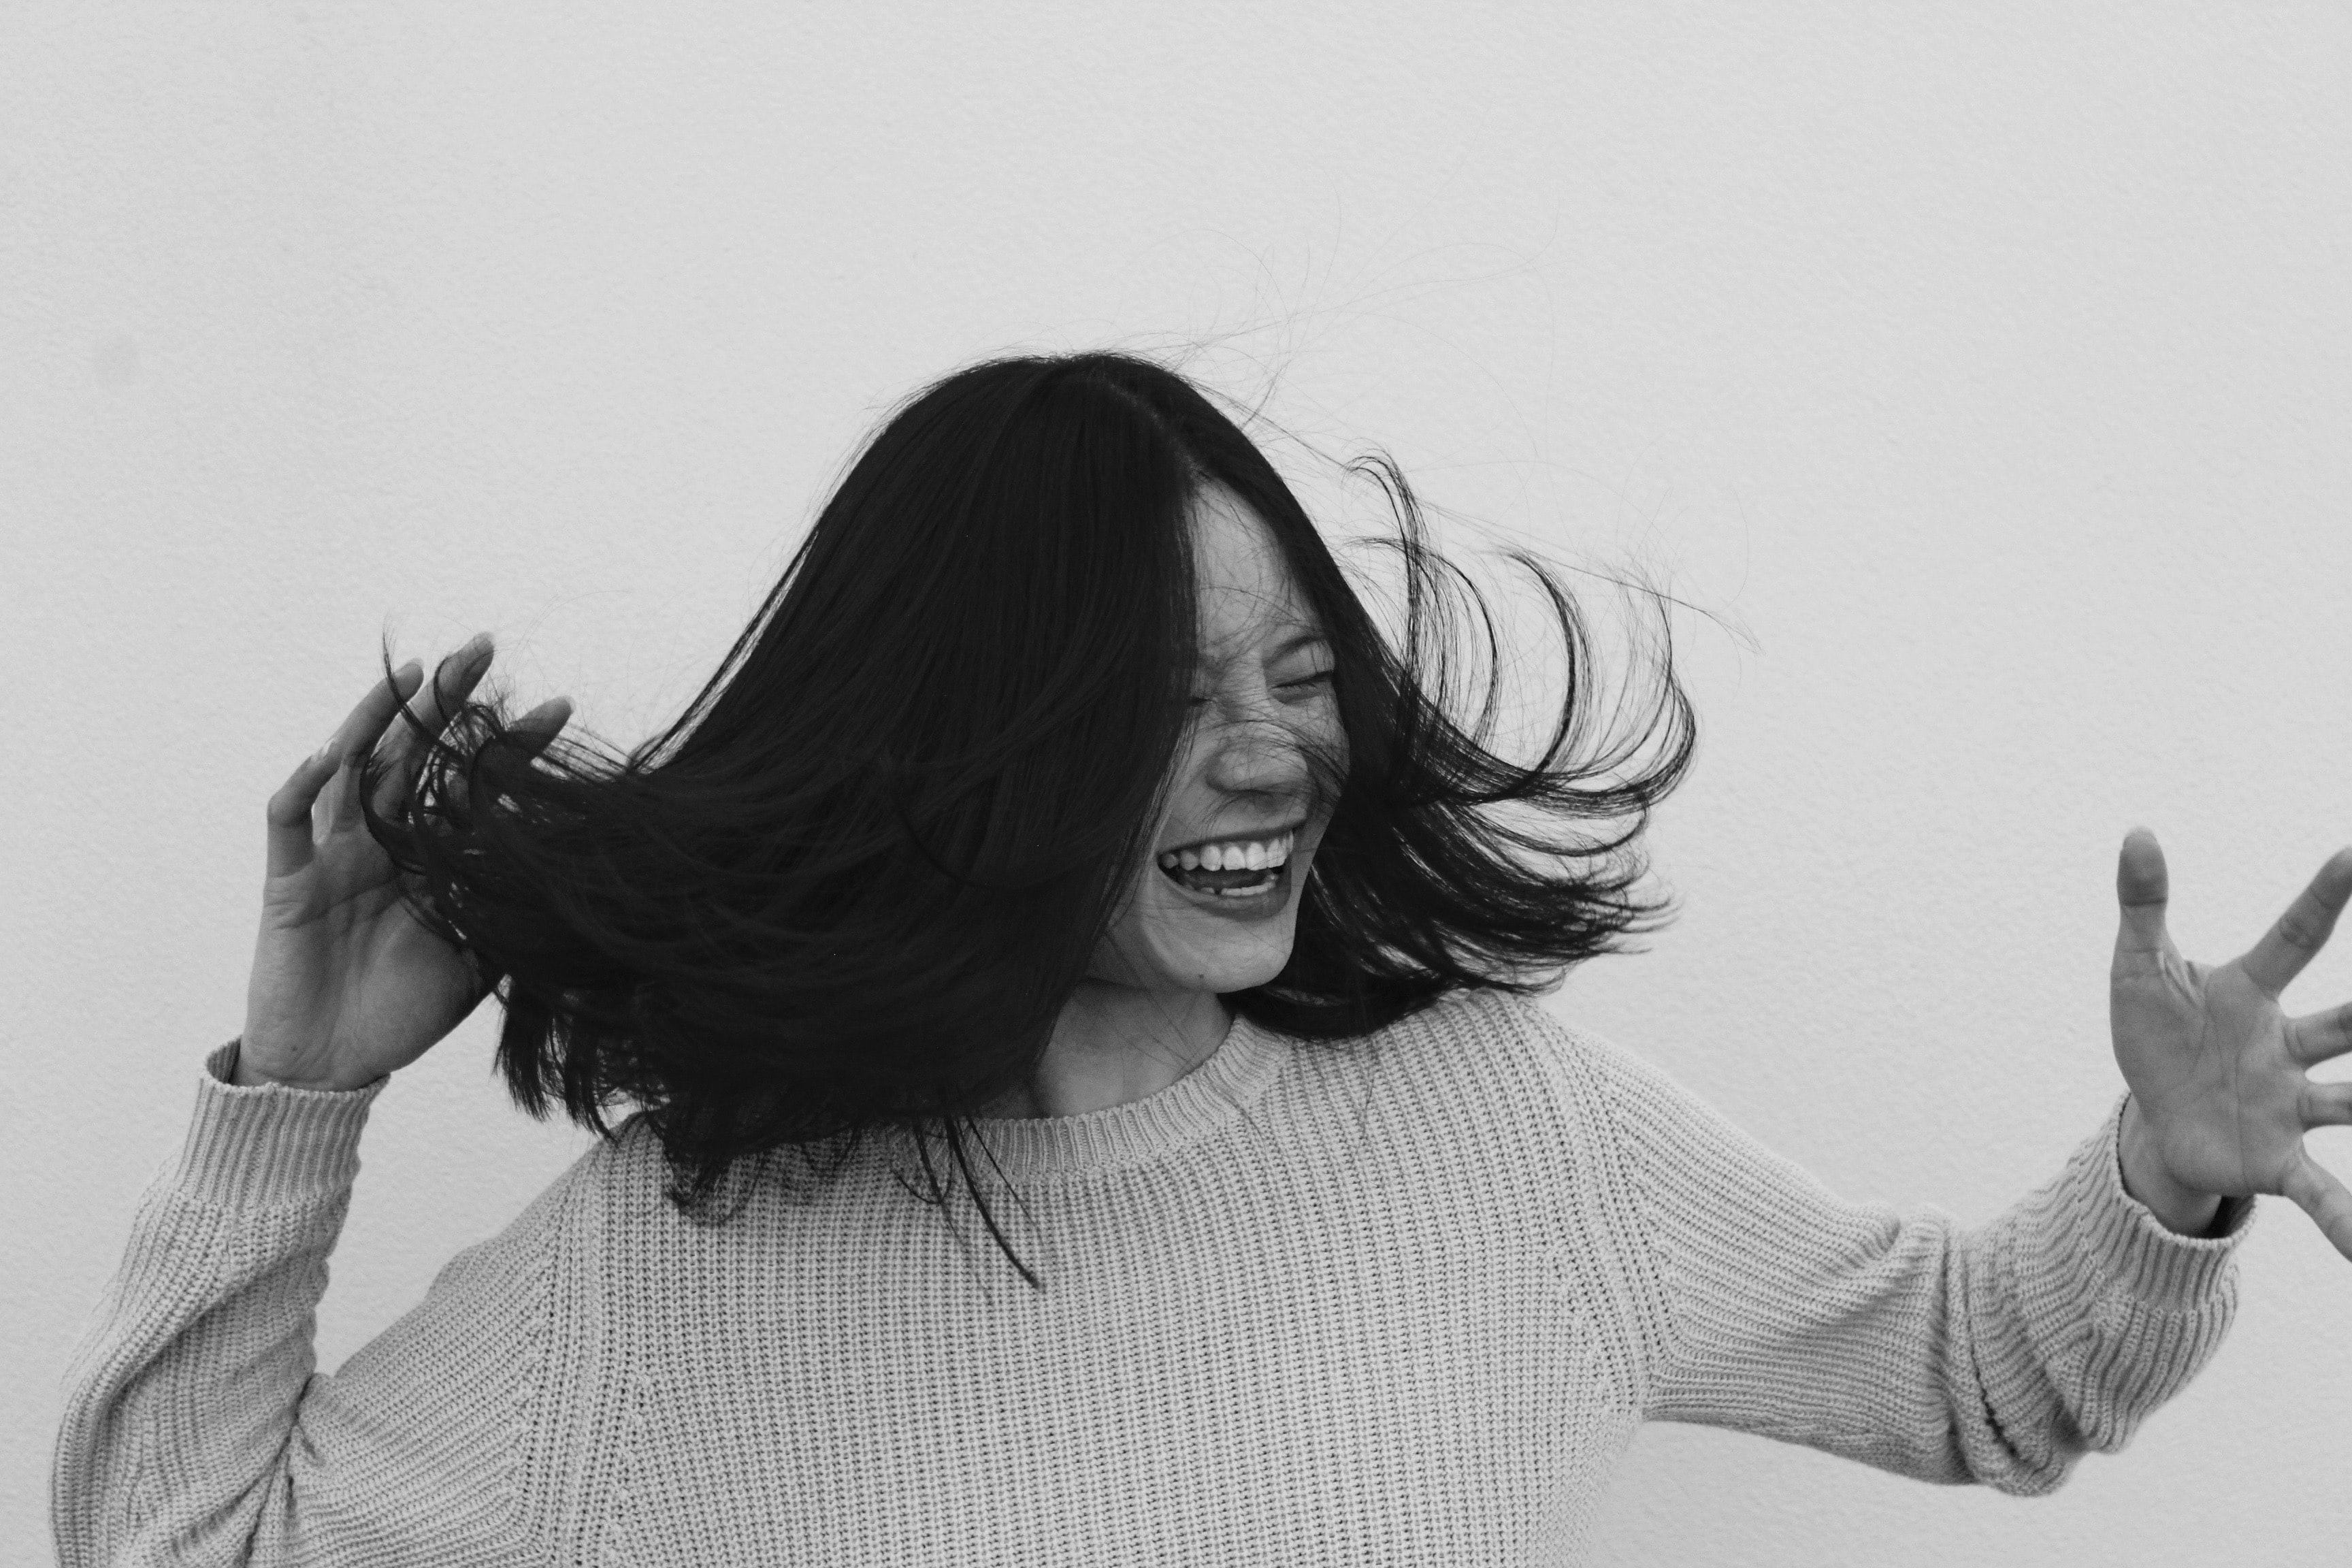face: (1013, 446, 1390, 1008)
